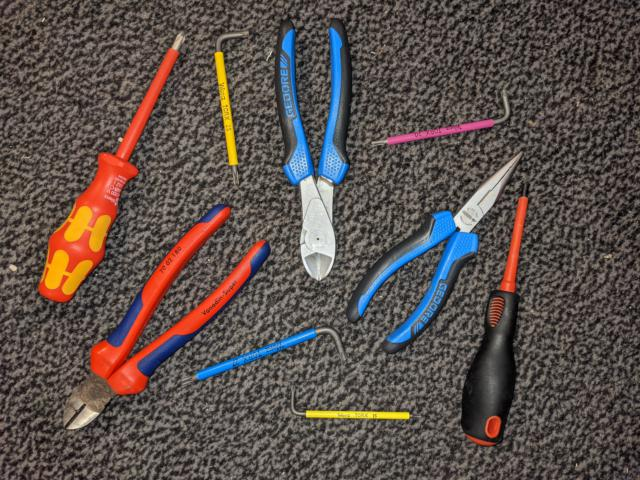Inbusschlüssel: (176, 321, 352, 392), (367, 84, 514, 151), (213, 27, 255, 189), (285, 380, 427, 424)
Schraubendreher: (35, 25, 192, 308), (455, 178, 537, 453)
Seitenschneider: (58, 202, 276, 434), (269, 15, 354, 286)
Zange: (344, 147, 529, 357)
